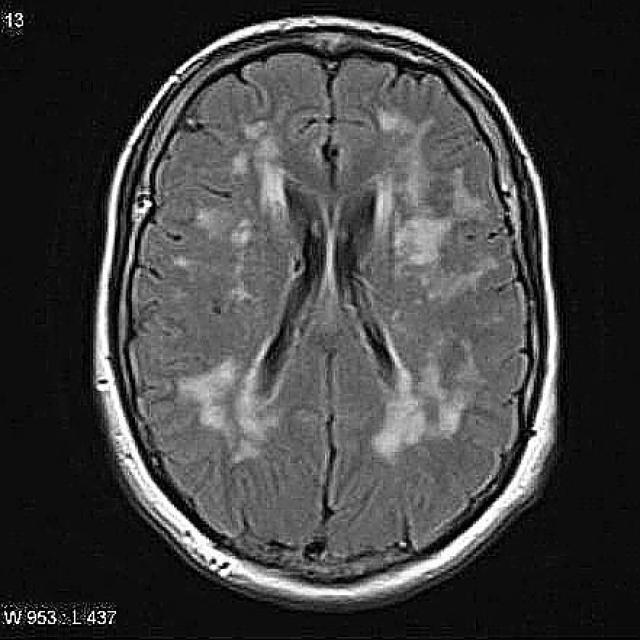notumor: (94, 17, 559, 607)
